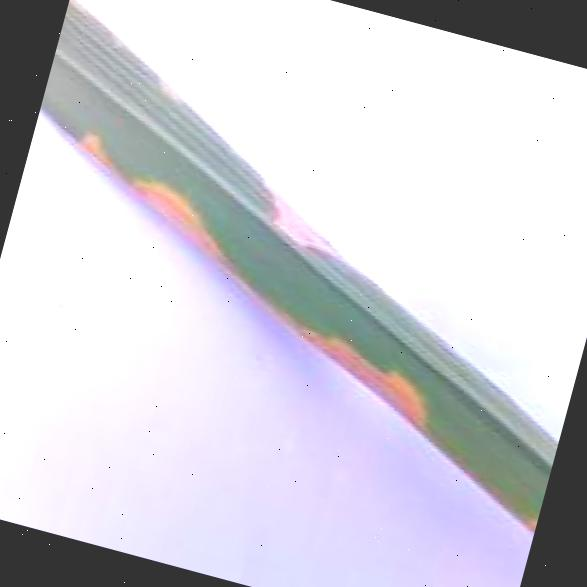Bacteria_Leaf_Blight: (32, 100, 268, 288), (258, 278, 474, 444), (235, 142, 410, 290)
